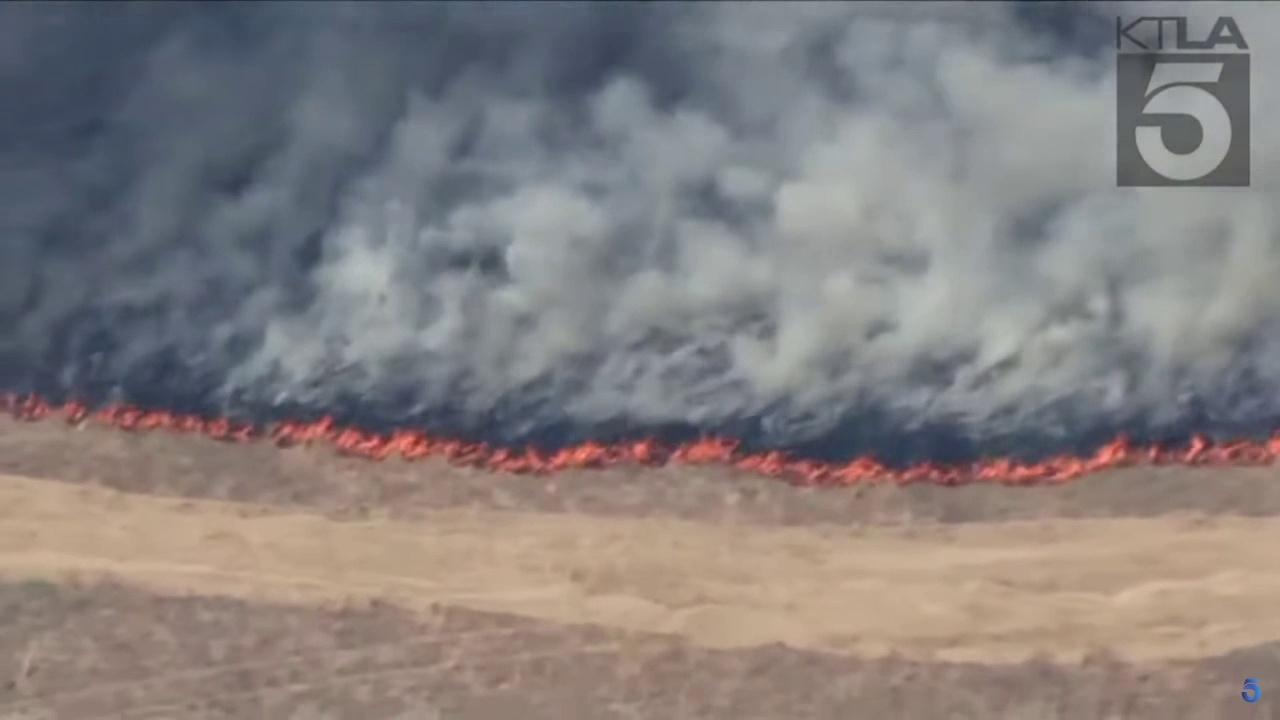fire: (0, 389, 1278, 488)
smoke: (0, 0, 1280, 427)
